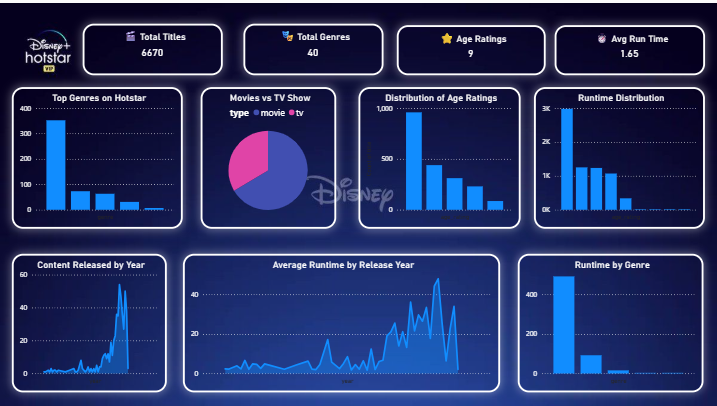

What the dashboard file says about the page in this screenshot:
{"tool":"powerbi","page":{"name":"Page 1","canvas":[1280,720],"ordinal":0},"visuals":[{"type":"card","title":"🎬 Total Titles","fields":{"Values":["Count(hotstar_cleaned.title)"]},"box":[147.4,36.8,250,92.1],"z":0},{"type":"card","title":"🎭 Total Genres","fields":{"Values":["Count(hotstar_cleaned.genre)"]},"box":[434.2,36.8,250,92.1],"z":1000},{"type":"card","title":"⭐ Age Ratings","fields":{"Values":["Count(hotstar_cleaned.age_rating)"]},"box":[708,39.5,265.8,89.5],"z":2000},{"type":"card","title":"⏱️ Avg Run Time","fields":{"Values":["Avg(hotstar_cleaned.running_time_hours)"]},"box":[989.6,39.5,268.4,89.5],"z":3000},{"type":"pieChart","title":"Movies vs TV Show","fields":{"Category":["hotstar_cleaned.type"],"Y":["CountNonNull(hotstar_cleaned.title)"]},"box":[357.9,150,242.1,252.7],"z":4000},{"type":"columnChart","title":"Top Genres on Hotstar","fields":{"Category":["hotstar_cleaned.genre"],"Y":["CountNonNull(hotstar_cleaned.title)"]},"box":[21.1,150,305.3,252.7],"z":5000},{"type":"areaChart","title":"Content Released by Year","fields":{"Category":["hotstar_cleaned.year"],"Y":["CountNonNull(hotstar_cleaned.title)"]},"box":[21.1,447.4,276.3,247.4],"z":6000},{"type":"clusteredColumnChart","title":"Distribution of Age Ratings","fields":{"Category":["hotstar_cleaned.age_rating"],"Y":["CountNonNull(hotstar_cleaned.title)"]},"box":[639.5,150,289.5,252.7],"z":7000},{"type":"columnChart","title":"Runtime Distribution","fields":{"Category":["hotstar_cleaned.age_rating"],"Y":["CountNonNull(hotstar_cleaned.title)"]},"box":[952.7,150,305.3,252.6],"z":8000},{"type":"clusteredColumnChart","title":"Runtime by Genre","fields":{"Category":["hotstar_cleaned.genre"],"Y":["Sum(hotstar_cleaned.running_time_hours)"]},"box":[923.8,447.4,331.6,247.4],"z":9000},{"type":"areaChart","title":"Average Runtime by Release Year","fields":{"Category":["hotstar_cleaned.year"],"Y":["Sum(hotstar_cleaned.running_time_hours)"]},"box":[326.3,447.4,565.8,247.4],"z":10001}]}

Visuals, with their boxes in screenshot pixels (x1, y1, x2, y2), scaled from the page's 1280x720 canvas onto the 717x406 screenshot:
"🎬 Total Titles" card: [83,21,223,73]
"🎭 Total Genres" card: [243,21,383,73]
"⭐ Age Ratings" card: [397,22,545,73]
"⏱️ Avg Run Time" card: [554,22,705,73]
"Movies vs TV Show" pieChart: [200,85,336,227]
"Top Genres on Hotstar" columnChart: [12,85,183,227]
"Content Released by Year" areaChart: [12,252,167,392]
"Distribution of Age Ratings" clusteredColumnChart: [358,85,520,227]
"Runtime Distribution" columnChart: [534,85,705,227]
"Runtime by Genre" clusteredColumnChart: [517,252,703,392]
"Average Runtime by Release Year" areaChart: [183,252,500,392]
